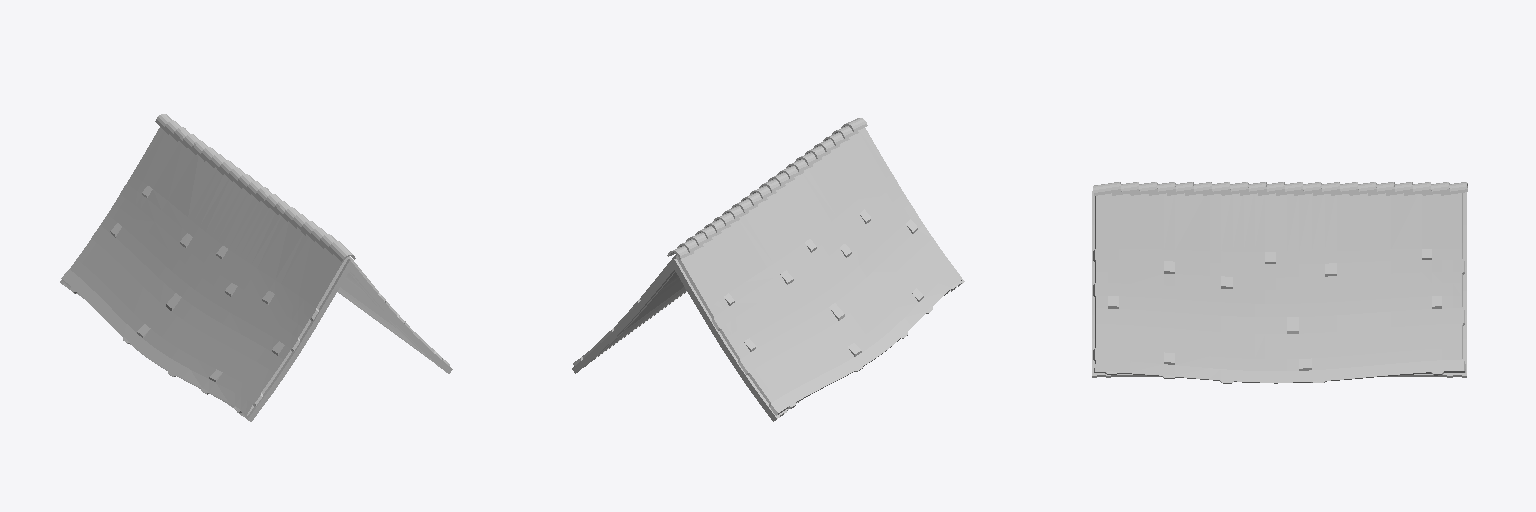
The model's file is Roof_FlatTiles_8x14.obj.
The picture shows the model from 3 angles: view 1: azimuth 30°, elevation 25°; view 2: azimuth 150°, elevation 25°; view 3: azimuth 270°, elevation 25°; orthographic projection.
Parts seen in each view (by area): view 1: Roof_FlatTiles_8x14; view 2: Roof_FlatTiles_8x14; view 3: Roof_FlatTiles_8x14.
Part boxes in pixels (x1,y1,x2,y2): Roof_FlatTiles_8x14: (60,114,452,421); Roof_FlatTiles_8x14: (572,118,964,421); Roof_FlatTiles_8x14: (1092,182,1467,383).
Size of the model in its own units: 10.8 by 6.78 by 15.71.